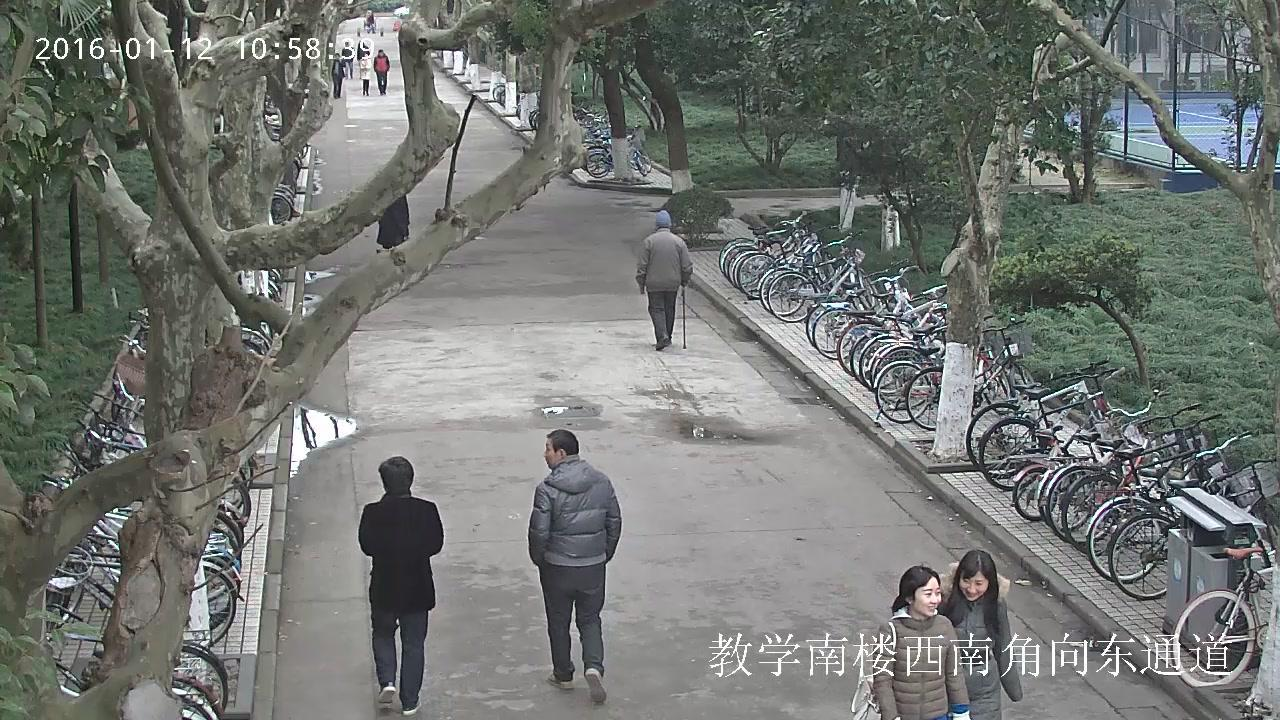person: (527, 428, 621, 703), (357, 456, 443, 716), (850, 565, 971, 720), (937, 548, 1023, 720), (635, 209, 692, 350), (376, 192, 410, 251), (372, 49, 390, 95), (358, 51, 372, 95), (330, 53, 343, 98), (341, 40, 355, 79), (355, 40, 370, 69)
